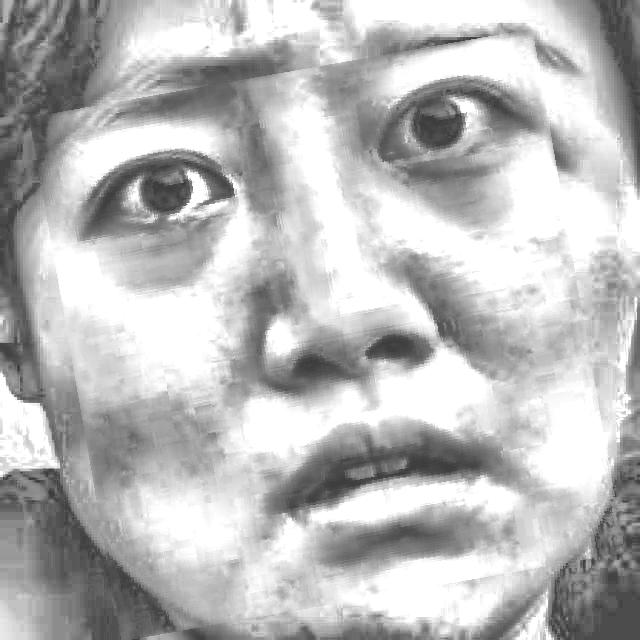fear: (50, 49, 603, 621)
